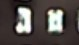MISSING: (10, 4, 36, 38), (43, 5, 66, 37)
